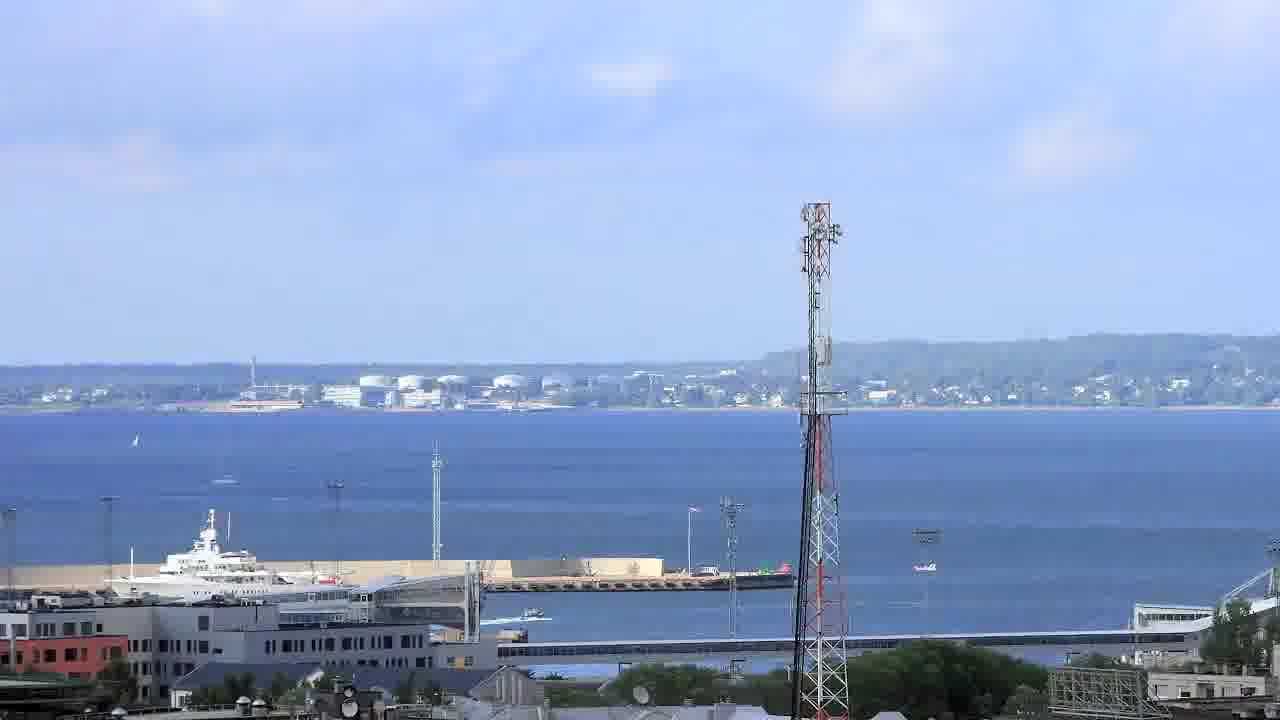type-2: (195, 436, 255, 501)
type-3: (96, 508, 381, 605)
type-4: (904, 542, 964, 586), (505, 598, 560, 630)
